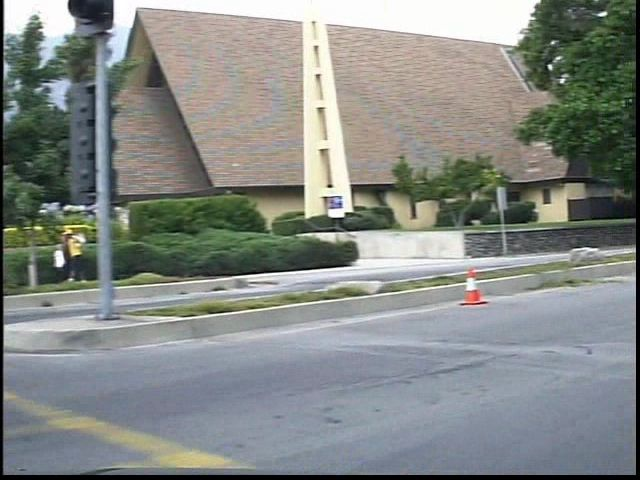person: (74, 222, 105, 285)
